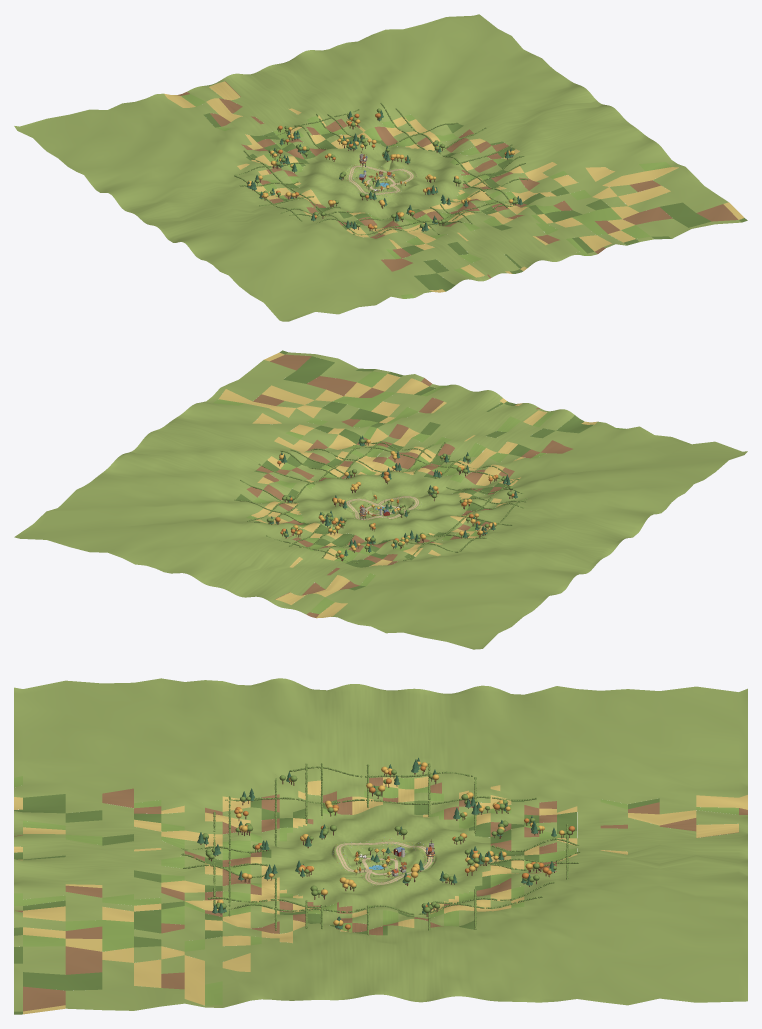
The model's file is castle.glb.
3 views of the same model, one above another, from view 1: azimuth 30°, elevation 25°; view 2: azimuth 150°, elevation 25°; view 3: azimuth 270°, elevation 25° (orthographic). The views are drawn at different scales.
Parts seen in each view (by area): view 1: far_ground, far_trees_bush_distant, far_trees_pine_distant, far_trees_leaf_green_distant, static; view 2: far_ground, far_trees_bush_distant, far_trees_pine_distant, far_trees_leaf_green_distant, static; view 3: far_ground, far_trees_bush_distant, far_trees_pine_distant, far_trees_leaf_green_distant, static, far_trees_leaf_orange_distant, far_trees_trunk_distant, far_trees_leaf_yellow_distant, far_trees_leaf_red_distant.
Part boxes in pixels (box(x1,y1,x2,y2)): far_ground: box(14, 14, 747, 321); far_trees_bush_distant: box(234, 102, 527, 236); far_trees_pine_distant: box(247, 110, 522, 231); far_trees_leaf_green_distant: box(255, 108, 517, 227); static: box(354, 170, 406, 192); far_ground: box(14, 350, 747, 649); far_trees_bush_distant: box(234, 441, 527, 563); far_trees_pine_distant: box(269, 435, 517, 555); far_trees_leaf_green_distant: box(266, 439, 512, 559); static: box(354, 498, 407, 517); far_ground: box(14, 678, 747, 1014); far_trees_bush_distant: box(181, 763, 580, 935); far_trees_pine_distant: box(197, 757, 556, 929); far_trees_leaf_green_distant: box(202, 769, 574, 925); static: box(354, 846, 407, 878); far_trees_leaf_orange_distant: box(207, 761, 564, 925); far_trees_trunk_distant: box(200, 770, 572, 931); far_trees_leaf_yellow_distant: box(217, 768, 543, 925); far_trees_leaf_red_distant: box(234, 766, 575, 929).
Size of the model in its own units: 220 by 15.07 by 220.
